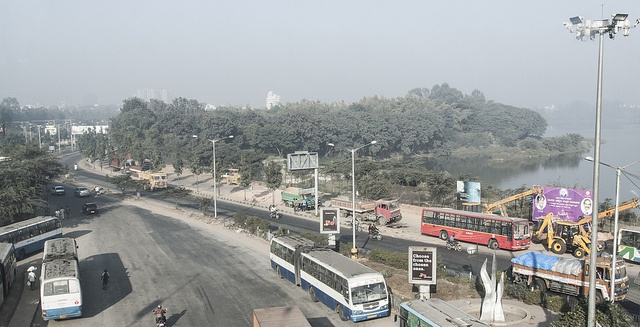non-vehicle: (445, 238, 463, 251), (368, 232, 381, 240), (156, 316, 164, 326)
